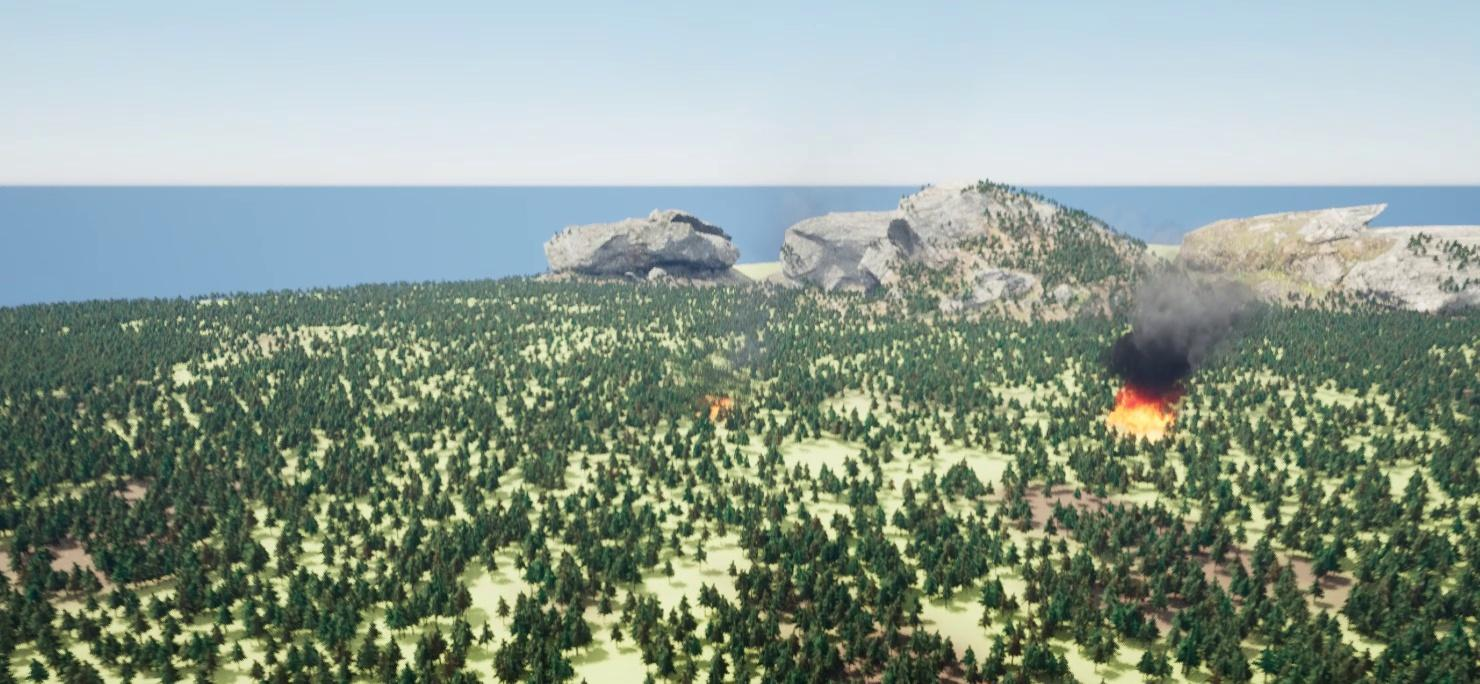fire: (1101, 388, 1174, 441), (703, 392, 731, 413)
smoke: (1098, 268, 1259, 383)
